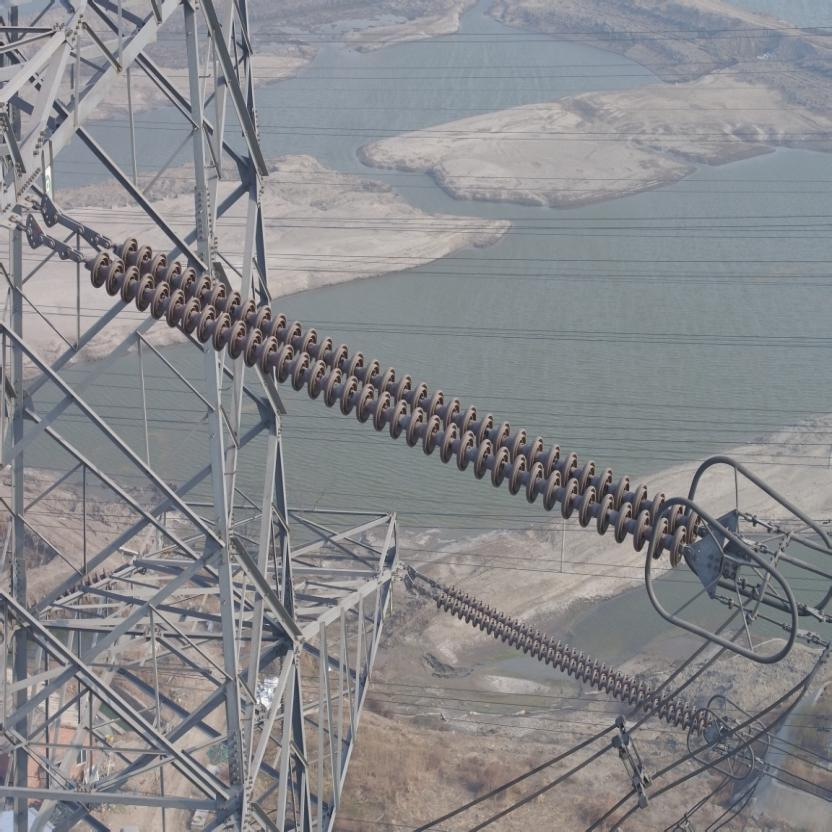insulator: (53, 224, 708, 574)
